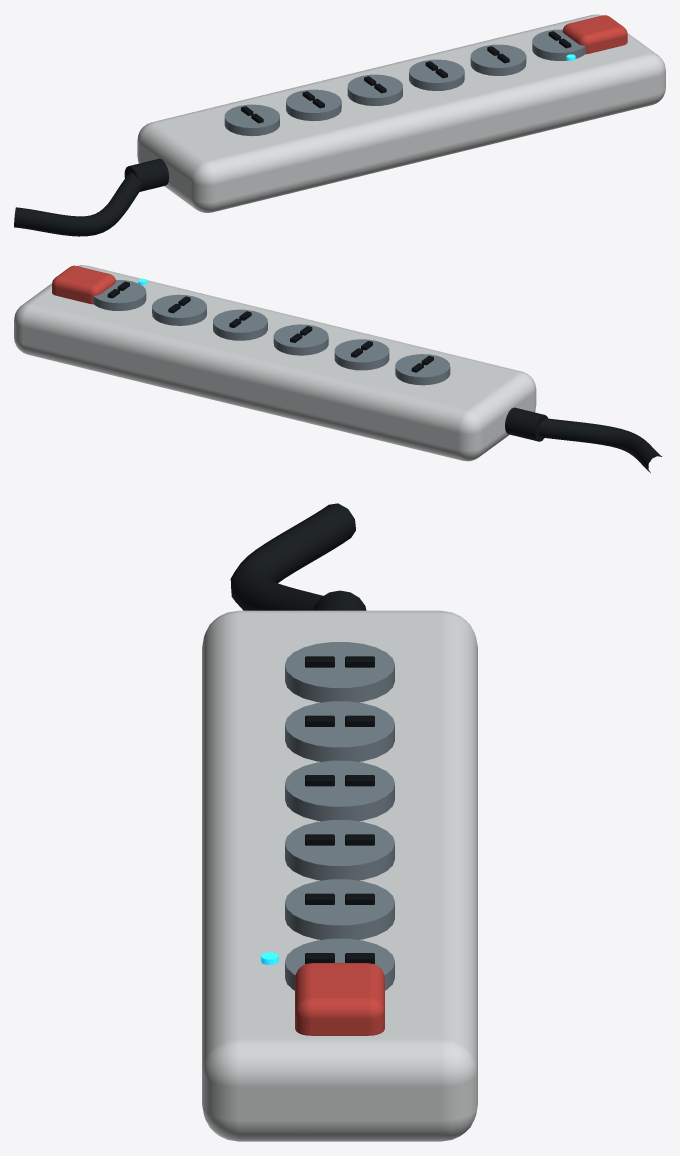
Rendered from surge-protector.glb.
3 renders of one model, top to bottom at view 1: azimuth 30°, elevation 25°; view 2: azimuth 150°, elevation 25°; view 3: azimuth 270°, elevation 25°, orthographic. The views are drawn at different scales.
Visible parts, largest first — view 1: Surge protector housing, Power cord, Illuminated power switch, Protected outlet 5, Protected outlet 1, Protected outlet 3, Protected outlet 2, Protected outlet 4, Protected outlet 6, Premium six-outlet surge protector, Cable strain relief; view 2: Surge protector housing, Power cord, Illuminated power switch, Protected outlet 2, Protected outlet 1, Protected outlet 3, Protected outlet 4, Protected outlet 5, Protected outlet 6, Cable strain relief, Premium six-outlet surge protector; view 3: Surge protector housing, Power cord, Illuminated power switch, Protected outlet 4, Protected outlet 1, Protected outlet 2, Protected outlet 3, Protected outlet 5, Premium six-outlet surge protector, Protected outlet 6.
Boxes of the visible parts, x1,y1,x2,y2 form: Surge protector housing: (137, 14, 665, 212); Power cord: (14, 172, 142, 236); Illuminated power switch: (562, 15, 627, 54); Protected outlet 5: (470, 44, 526, 75); Protected outlet 1: (224, 104, 279, 136); Protected outlet 3: (347, 74, 402, 105); Protected outlet 2: (286, 89, 341, 121); Protected outlet 4: (409, 59, 464, 90); Protected outlet 6: (532, 29, 585, 60); Premium six-outlet surge protector: (241, 31, 571, 123); Cable strain relief: (124, 158, 169, 191); Surge protector housing: (14, 265, 536, 461); Power cord: (539, 418, 661, 472); Illuminated power switch: (52, 265, 115, 304); Protected outlet 2: (334, 339, 389, 370); Protected outlet 1: (395, 354, 450, 385); Protected outlet 3: (273, 324, 328, 355); Protected outlet 4: (213, 309, 267, 340); Protected outlet 5: (152, 294, 206, 325); Protected outlet 6: (93, 280, 146, 310); Cable strain relief: (505, 407, 548, 441); Premium six-outlet surge protector: (107, 281, 433, 372); Surge protector housing: (202, 610, 477, 1141); Power cord: (230, 503, 355, 610); Illuminated power switch: (295, 963, 384, 1035); Protected outlet 4: (285, 820, 394, 880); Protected outlet 1: (285, 642, 394, 702); Protected outlet 2: (285, 701, 394, 761); Protected outlet 3: (285, 760, 394, 821); Protected outlet 5: (285, 879, 394, 939); Premium six-outlet surge protector: (305, 656, 374, 963); Protected outlet 6: (285, 938, 394, 990).
Bounding box in the file's own units: 2.86 × 0.29 × 0.55.
